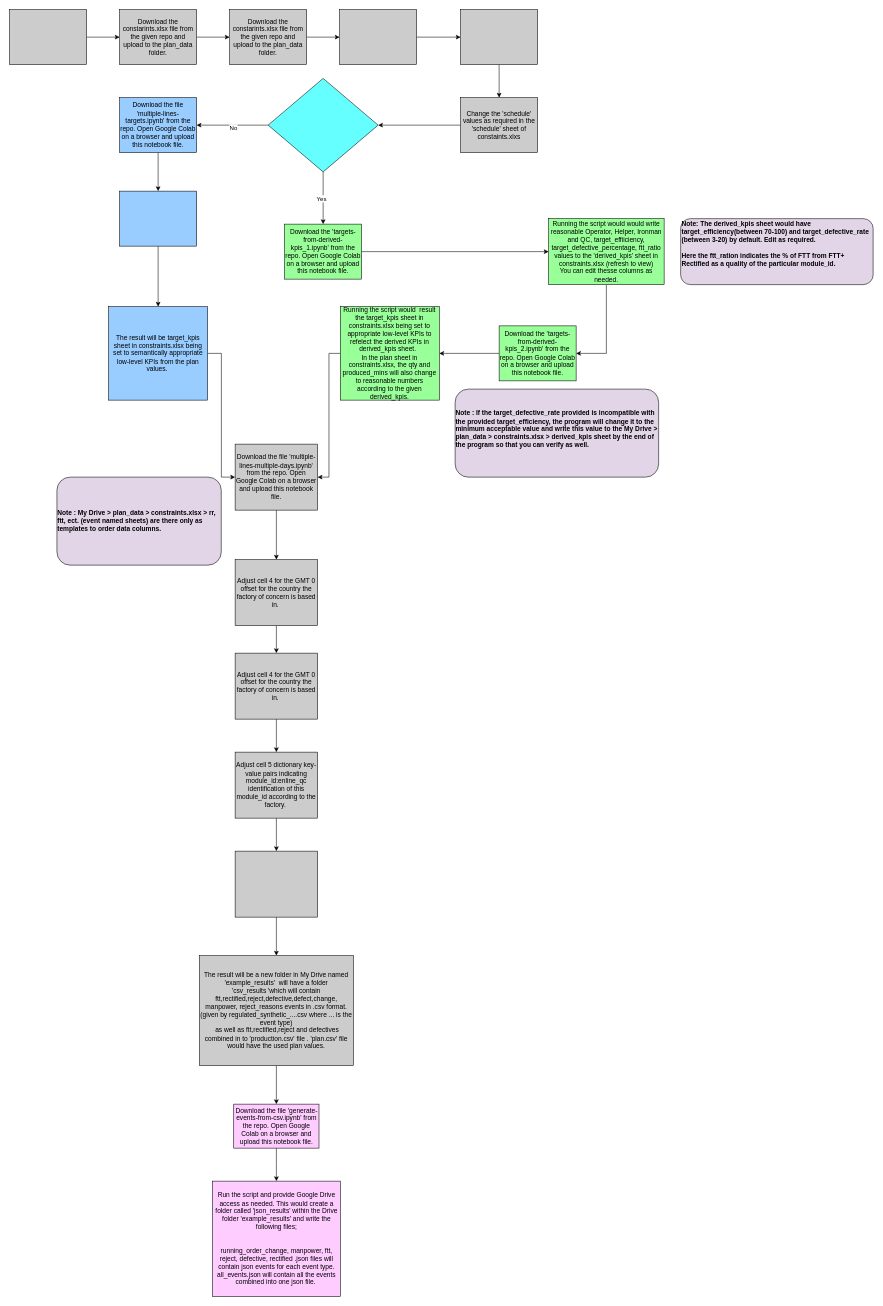
This 883x1306 diagram has some shape labels left out. The centre of each missing label's shape, as x and y in pixels:
Change the 'plan' values as required in the 'plan' sheet of constaints.xlxs: point 378,37
Create a folder named 'plan_data' on Google Drive > My Drive: point 48,37
Do you want to generate events for a specific derived KPI?: point 323,125
Download all 6 files with .pkl extension and upload to plan_data folder.: point 499,37
Select runtime>run all option from the tab .: point 158,218
Select runtime>run all option to run the whole script.: point 276,884
